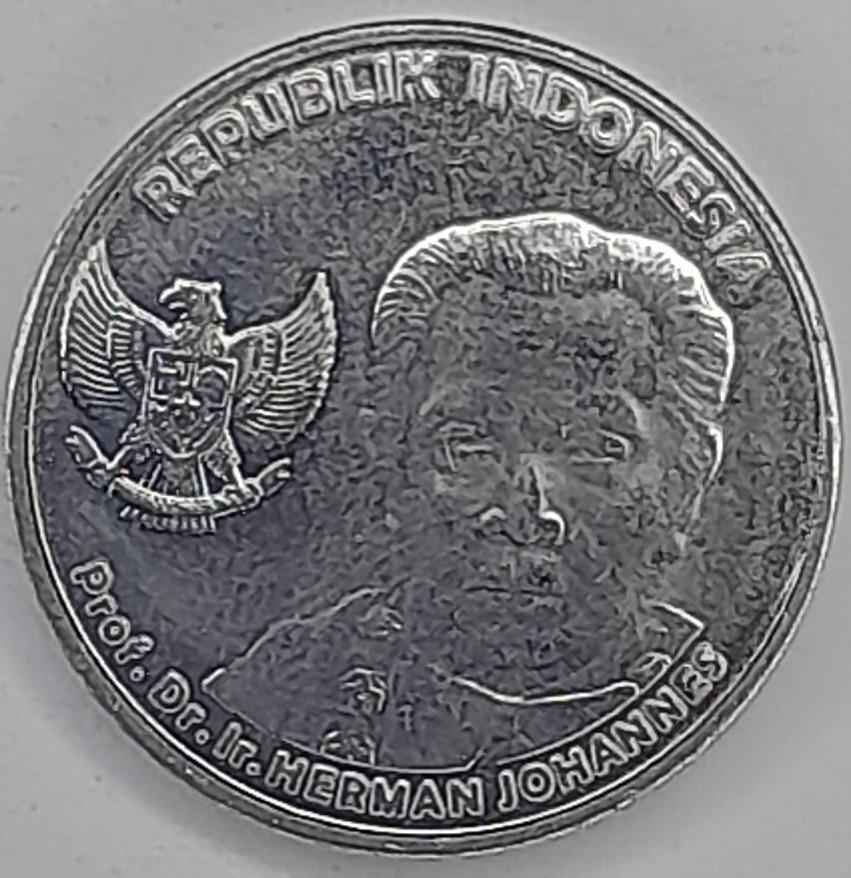coin_100_e2016: (0, 13, 850, 860)
